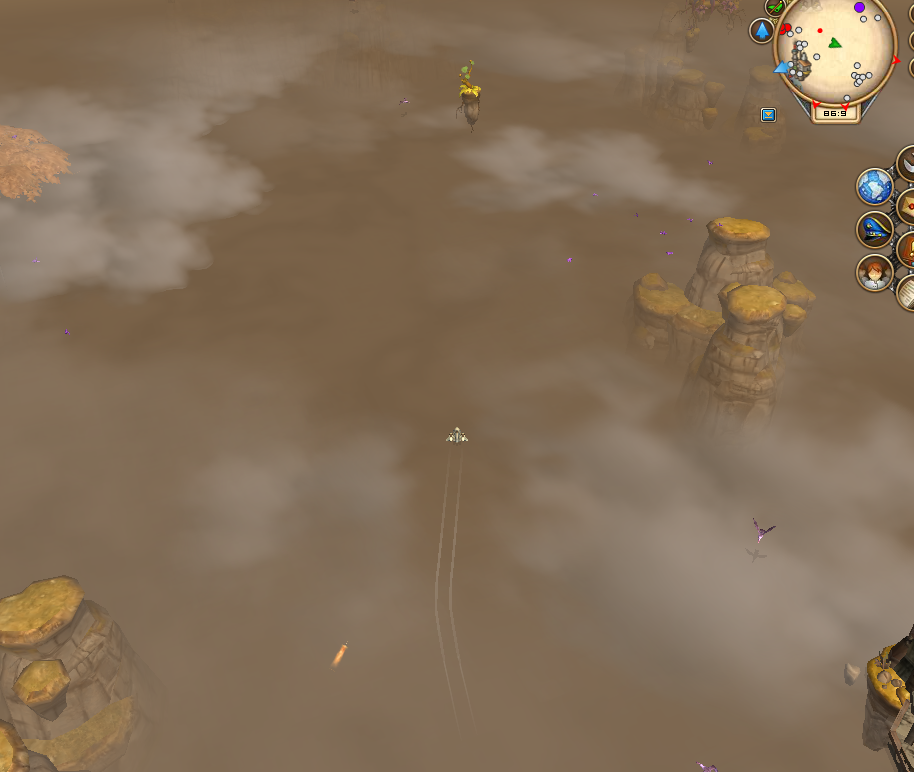dandelion-full: (451, 54, 486, 118)
